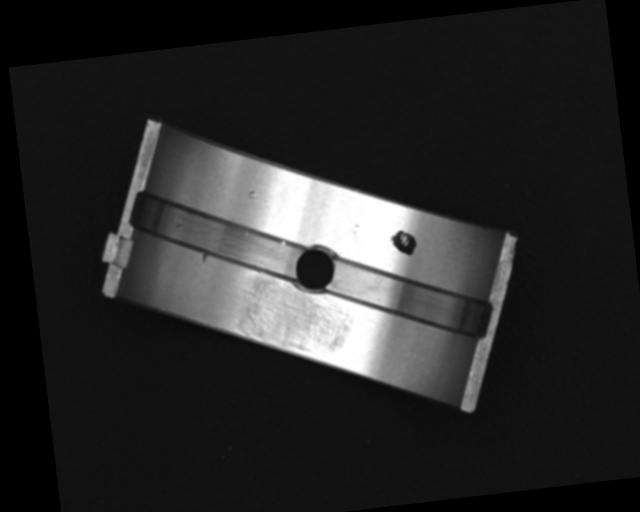blot: (388, 228, 419, 259)
bruise: (198, 248, 211, 264), (247, 188, 257, 200)
gap: (132, 171, 313, 301), (319, 236, 496, 366)
hole: (285, 239, 342, 297)
scratch: (231, 261, 359, 365)
